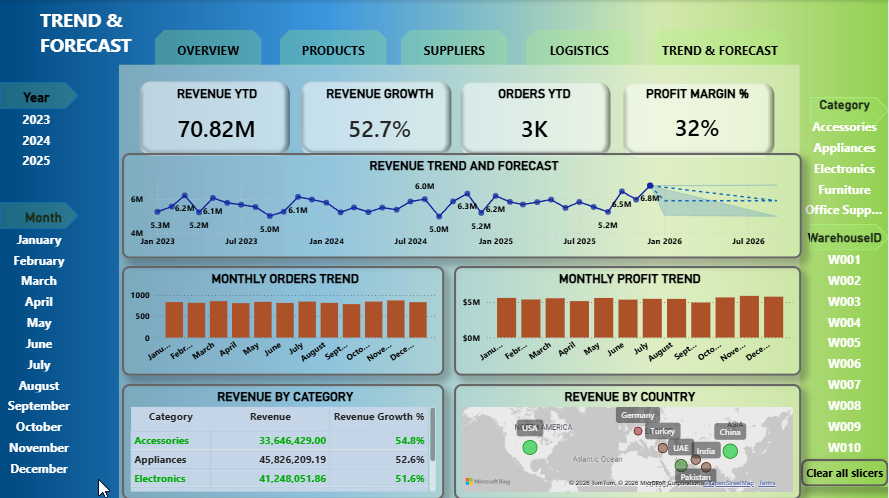

What the dashboard file says about the page in this screenshot:
{"tool":"powerbi","page":{"name":"Trend And Forecast","canvas":[1280,720],"ordinal":4},"visuals":[{"type":"shape","box":[0,118.1,113.8,38.9],"z":0},{"type":"listSlicer","fields":{"Values":["DimDATE.Year"]},"box":[0,128.2,105.1,149.8],"z":1000},{"type":"listSlicer","fields":{"Values":["DimProduct.Category"]},"box":[1154.1,139,125.9,221],"z":2000},{"type":"listSlicer","fields":{"Values":["DimWarehouse.WarehouseID"]},"box":[1154.1,330.7,125.9,370.2],"z":3000},{"type":"listSlicer","fields":{"Values":["DimDATE.Month"]},"box":[0,301,125.3,398.9],"z":4000},{"type":"shape","box":[0,290.9,113.8,38.9],"z":5000},{"type":"shape","box":[1165.9,139,114.1,38],"z":6000},{"type":"shape","box":[1165.9,322,114.1,38],"z":7000},{"type":"actionButton","box":[223.9,43,153.7,51.2],"z":8000},{"type":"actionButton","box":[403.9,43,153.7,51.2],"z":9000},{"type":"actionButton","box":[578,43,153.7,51.2],"z":10000},{"type":"actionButton","box":[758,43,153.7,51.2],"z":11000},{"type":"actionButton","box":[941,43,193.2,51.2],"z":12000},{"type":"actionButton","box":[1154.1,661.5,125.9,39.5],"z":13000},{"type":"textbox","box":[15.8,10.1,159.8,77.8],"z":14000},{"type":"cardVisual","title":"REVENUE YTD","fields":{"Data":["FactSupplyChain.Revenue YTD"]},"box":[236.2,123.8,152.6,95],"z":15000},{"type":"cardVisual","title":"REVENUE GROWTH","fields":{"Data":["FactSupplyChain.Revenue Growth %"]},"box":[455,123.8,184.3,95],"z":16000},{"type":"cardVisual","title":"ORDERS YTD","fields":{"Data":["FactSupplyChain.Orders YTD"]},"box":[679.7,123.8,180,95],"z":17000},{"type":"cardVisual","title":"PROFIT MARGIN %","fields":{"Data":["FactSupplyChain.Profit Margin %"]},"box":[923,123.8,162.7,92.2],"z":18000},{"type":"lineChart","title":"REVENUE TREND AND FORECAST","fields":{"Y":["Sum(FactSupplyChain.Revenue)"],"Category":["DimDATE.Month Start"]},"box":[175.7,220.3,977.8,162.7],"z":19000},{"type":"columnChart","title":"MONTHLY ORDERS TREND","fields":{"Y":["FactSupplyChain.Total Orders"],"Category":["DimDATE.Month"]},"box":[175.6,383.4,463.9,158],"z":20000},{"type":"columnChart","title":"MONTHLY PROFIT TREND","fields":{"Y":["FactSupplyChain.Total Profit"],"Category":["DimDATE.Month"]},"box":[654.1,383.4,500.5,158],"z":21000},{"type":"tableEx","title":"REVENUE BY CATEGORY","fields":{"Values":["DimProduct.Category","Sum(FactSupplyChain.Revenue)","FactSupplyChain.Revenue Growth %"]},"box":[175.6,553.2,463.9,166.8],"z":22000},{"type":"map","title":"REVENUE BY COUNTRY","fields":{"Category":["DimSupplier.Country"],"Size":["FactSupplyChain.Total Revenue"]},"box":[654.1,553.2,500.5,166.8],"z":23000}]}

Visuals, with their boxes in screenshot pixels (x1, y1, x2, y2), scaled from the page's 1280x720 canvas onto the 889x498 screenshot:
shape: [0,82,79,109]
listSlicer - DimDATE.Year: [0,89,73,192]
listSlicer - DimProduct.Category: [802,96,888,249]
listSlicer - DimWarehouse.WarehouseID: [802,229,888,485]
listSlicer - DimDATE.Month: [0,208,87,484]
shape: [0,201,79,228]
shape: [810,96,888,122]
shape: [810,223,888,249]
actionButton: [156,30,262,65]
actionButton: [281,30,387,65]
actionButton: [401,30,508,65]
actionButton: [526,30,633,65]
actionButton: [654,30,788,65]
actionButton: [802,458,888,485]
textbox: [11,7,122,61]
"REVENUE YTD" cardVisual: [164,86,270,151]
"REVENUE GROWTH" cardVisual: [316,86,444,151]
"ORDERS YTD" cardVisual: [472,86,597,151]
"PROFIT MARGIN %" cardVisual: [641,86,754,149]
"REVENUE TREND AND FORECAST" lineChart: [122,152,801,265]
"MONTHLY ORDERS TREND" columnChart: [122,265,444,374]
"MONTHLY PROFIT TREND" columnChart: [454,265,802,374]
"REVENUE BY CATEGORY" tableEx: [122,383,444,497]
"REVENUE BY COUNTRY" map: [454,383,802,497]
